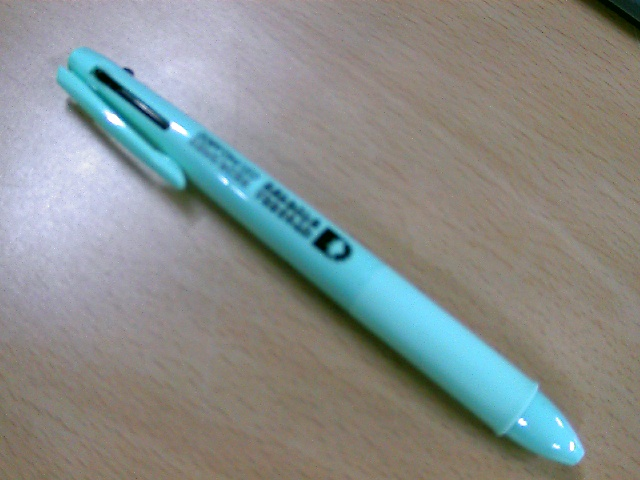pen: (50, 40, 591, 475)
